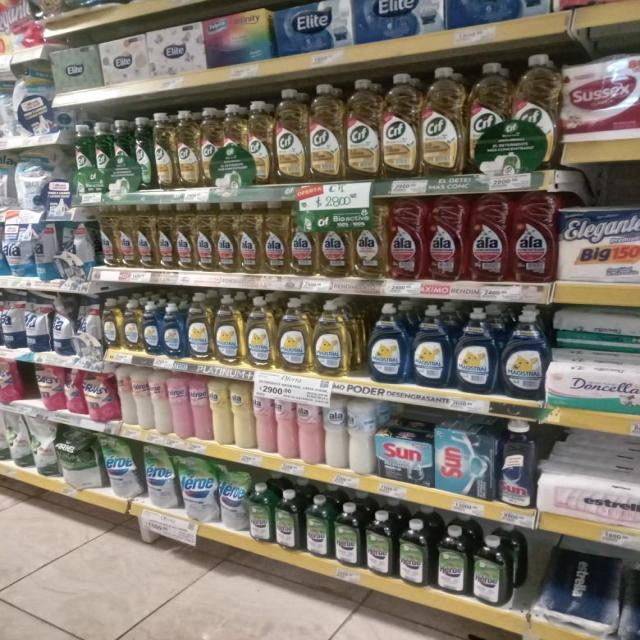ala_conc_amarillo: (354, 200, 387, 280), (319, 204, 352, 278), (290, 201, 318, 277), (264, 200, 289, 276), (238, 201, 262, 275), (217, 201, 238, 274), (196, 202, 216, 272), (136, 203, 156, 270), (176, 202, 195, 272), (98, 204, 117, 268), (157, 202, 174, 271), (118, 204, 136, 269), (60, 0, 93, 11), (37, 0, 64, 12)
ala_conc_rojo: (512, 190, 557, 284), (468, 192, 510, 284), (427, 195, 466, 283), (389, 196, 426, 282)
ala_crem_blanco: (324, 392, 346, 470)
cif_conc_bot_amarilla: (510, 53, 559, 173), (421, 66, 466, 178), (468, 62, 510, 176), (382, 71, 420, 179), (345, 78, 380, 180), (309, 83, 344, 182), (276, 87, 308, 184), (221, 102, 248, 188), (248, 100, 274, 185), (176, 109, 200, 189), (154, 111, 175, 190), (201, 106, 221, 188)
cif_conc_botella_verde: (113, 119, 135, 193), (74, 123, 95, 194), (135, 115, 153, 191), (96, 121, 112, 193)
magistral_con_amarillo: (313, 298, 353, 378), (277, 297, 312, 373), (245, 296, 275, 369), (214, 294, 244, 366), (187, 293, 213, 362), (102, 297, 121, 350), (123, 300, 141, 352)
magistral_con_azul: (502, 307, 546, 400), (454, 306, 499, 394), (367, 302, 410, 384), (412, 304, 452, 388), (162, 301, 185, 358), (142, 300, 161, 356)
